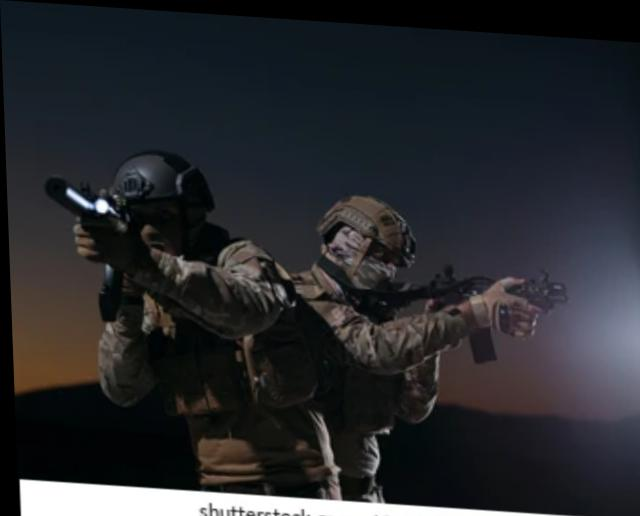other: (74, 149, 306, 484), (297, 189, 450, 486)
